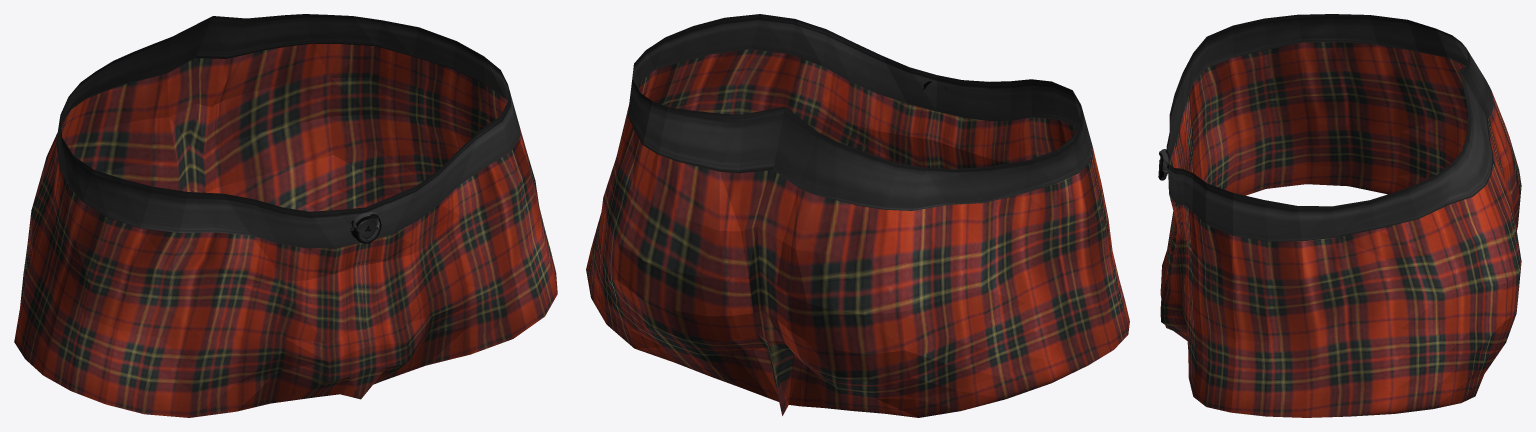
File: mhw_frankyaye_mini_skirt_01.glb
The picture shows the model from 3 angles, left to right: view 1: azimuth 30°, elevation 25°; view 2: azimuth 150°, elevation 25°; view 3: azimuth 270°, elevation 25°; orthographic projection. The views are drawn at different scales.
Parts seen in each view (by area): view 1: mhw_frankyaye_mini_skirt_01; view 2: mhw_frankyaye_mini_skirt_01; view 3: mhw_frankyaye_mini_skirt_01.
Part boxes in pixels (x1,y1,x2,y2): mhw_frankyaye_mini_skirt_01: (14,14,557,417); mhw_frankyaye_mini_skirt_01: (586,14,1129,417); mhw_frankyaye_mini_skirt_01: (1158,14,1521,417).
Bounding box in the file's own units: 0.3884 × 0.2293 × 0.255.
Materials: 1 (1 with a texture image).
